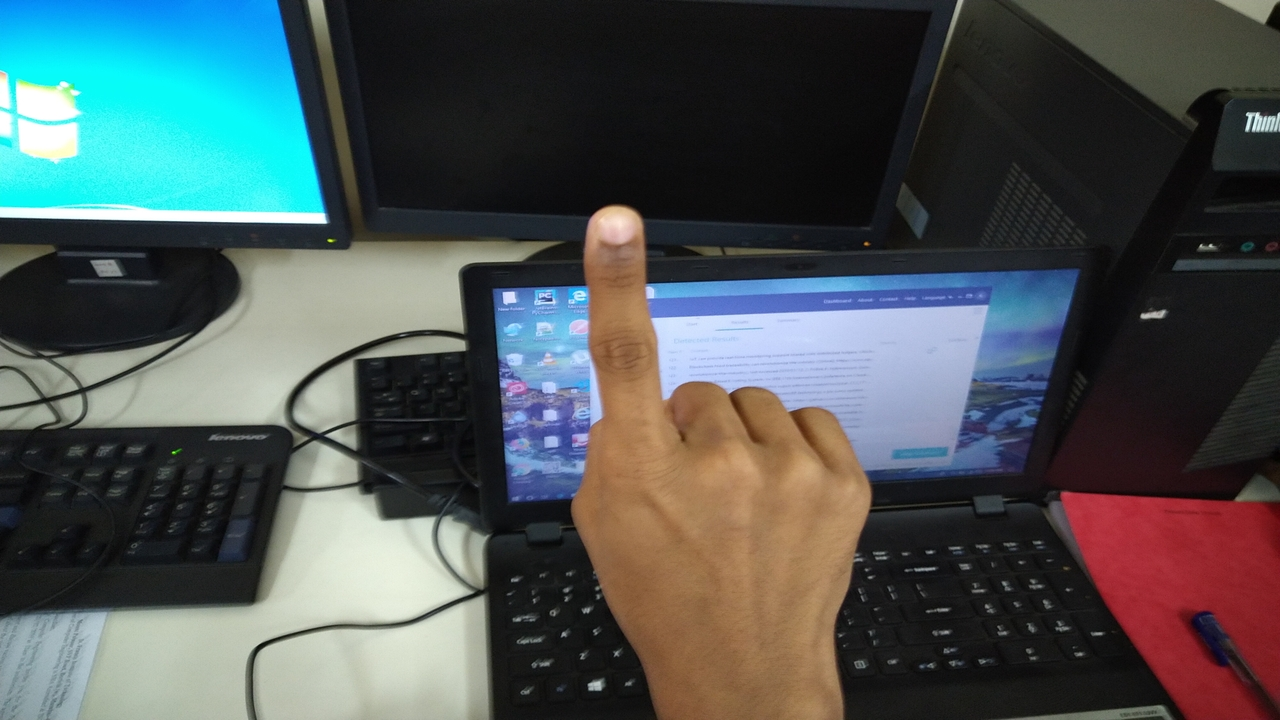fingertip: (580, 200, 648, 266)
